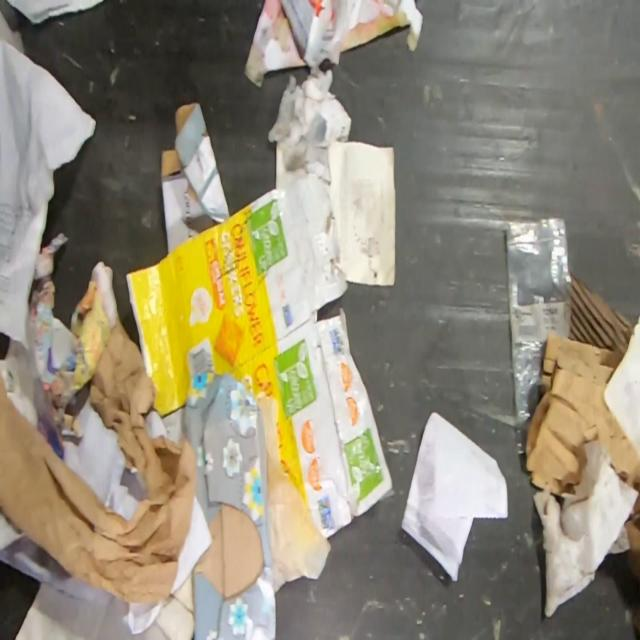cardboard: (125, 171, 395, 540), (524, 333, 640, 585), (180, 369, 277, 640), (242, 0, 425, 90), (160, 100, 231, 253), (569, 269, 637, 356)
soft_plastic: (503, 214, 572, 455), (256, 395, 334, 591)
